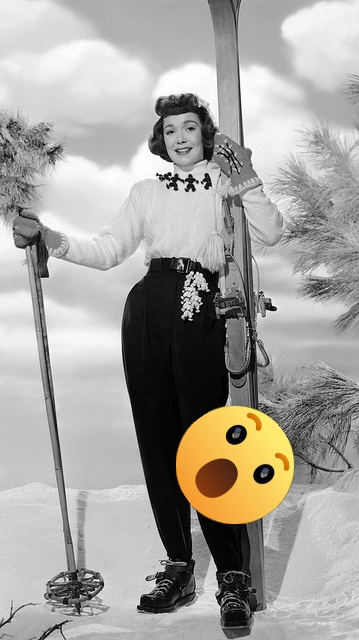wow: (176, 406, 294, 524)
